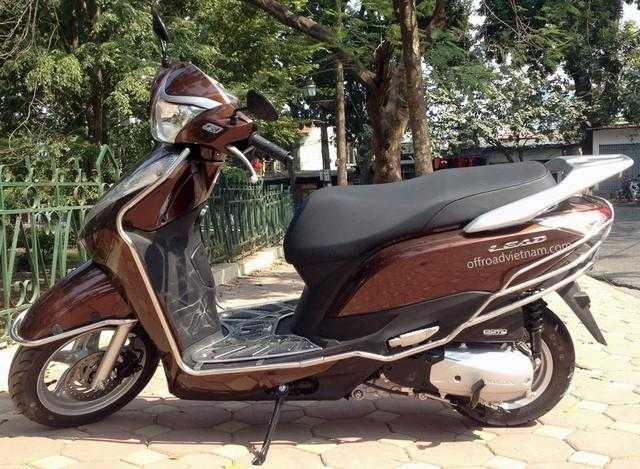car: (2, 2, 214, 318)
motorbike: (108, 14, 526, 469)
